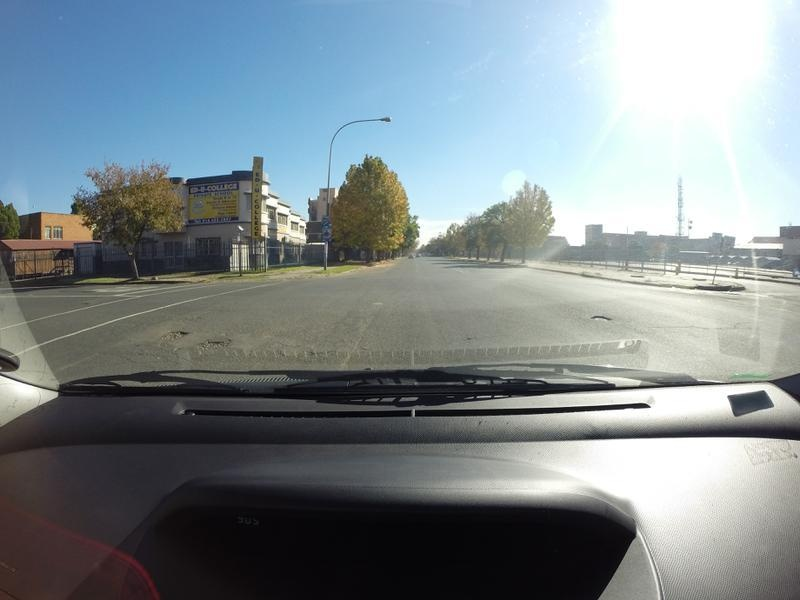pothole: (204, 333, 228, 355), (159, 326, 192, 339), (590, 312, 610, 322)
